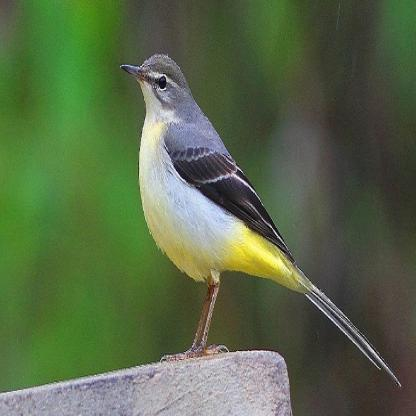Burung: (118, 56, 401, 391)
